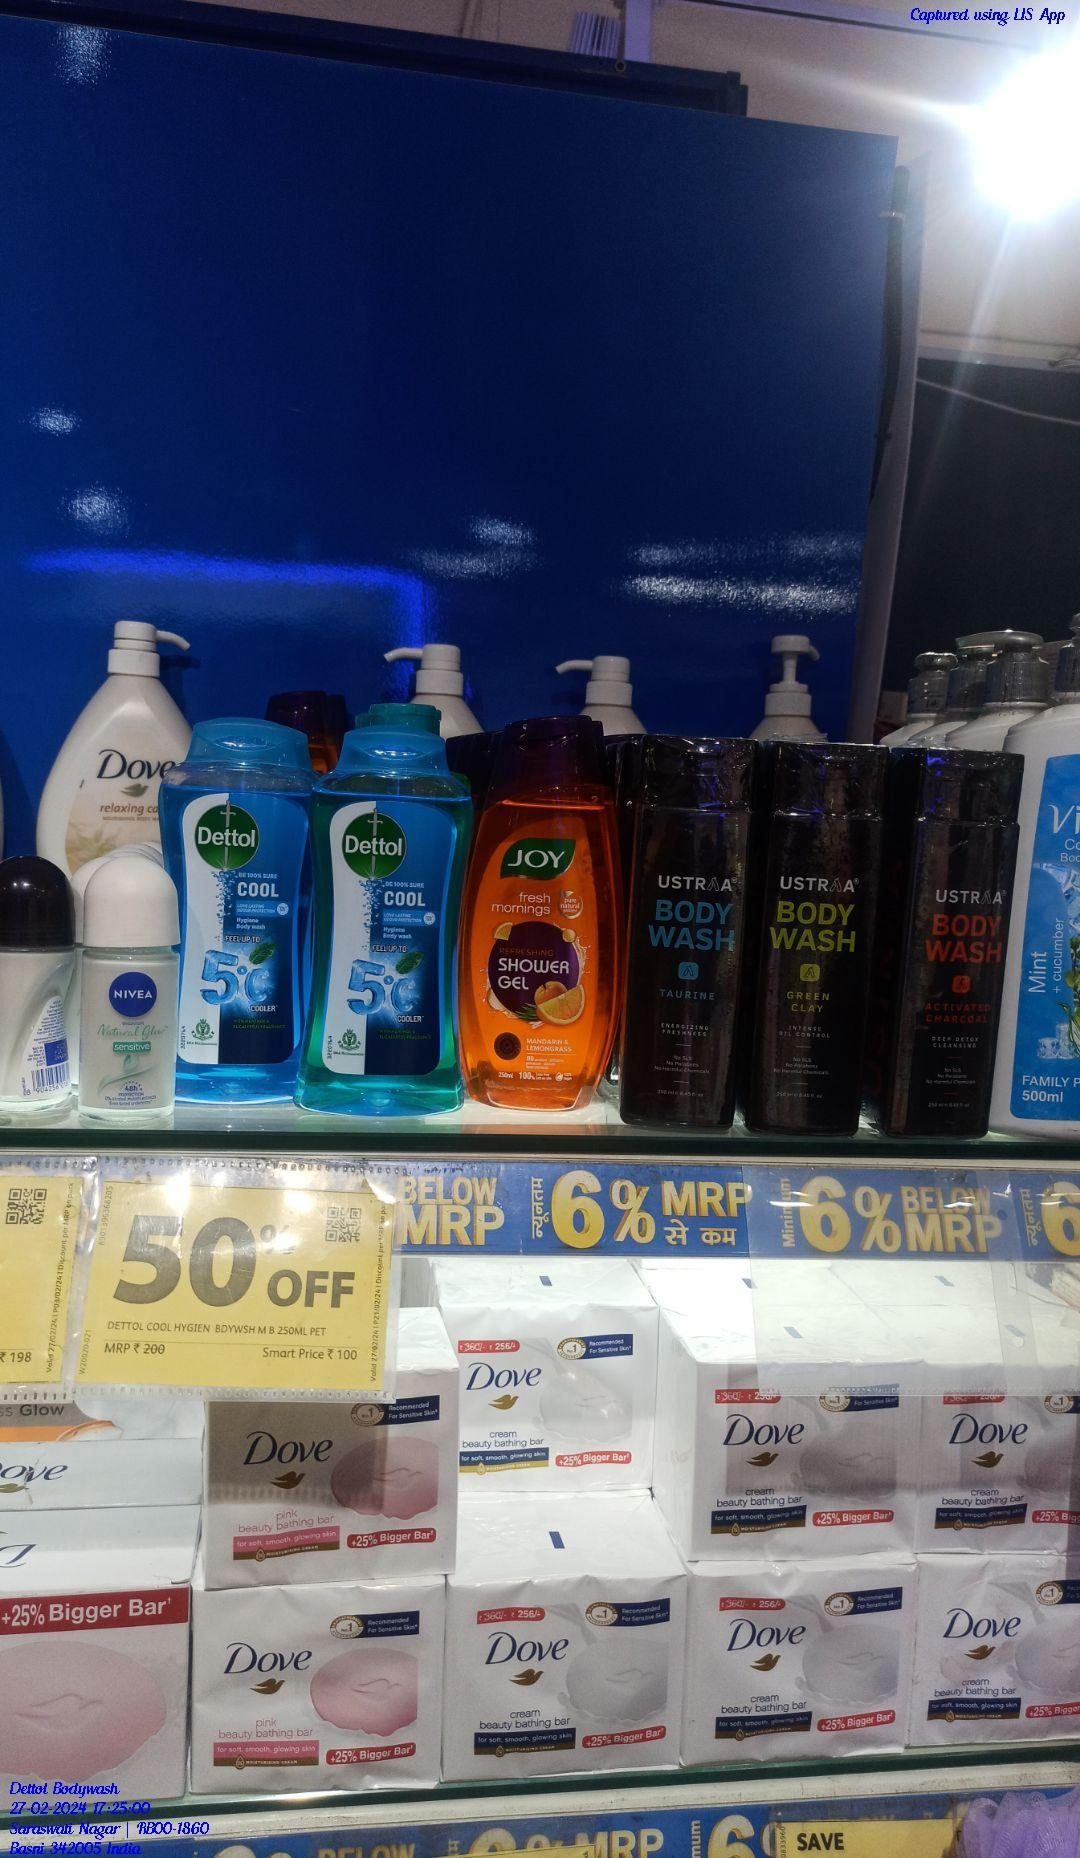Dettol_Bodywash_Cool: (310, 725, 459, 1117), (171, 715, 301, 1105)
Joy_Shower_Gel_Mandarin_and_Lemongrass_250ML: (469, 706, 625, 1115)
